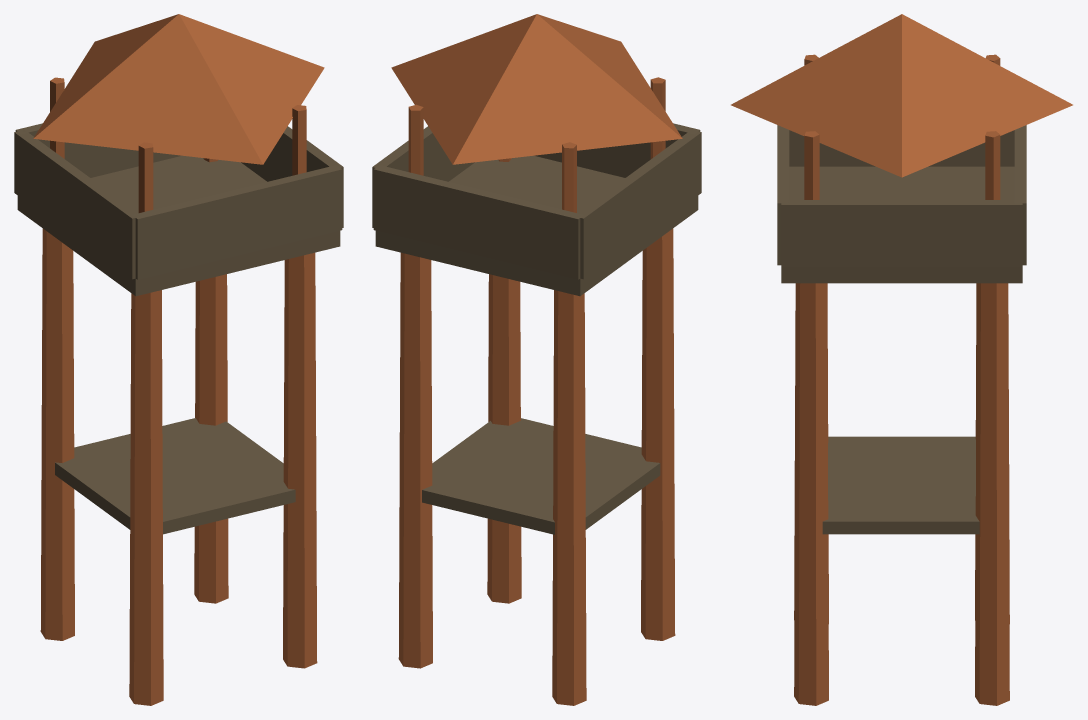
File: gnome_tower.glb
The picture shows the model from 3 angles, left to right: view 1: azimuth 30°, elevation 25°; view 2: azimuth 150°, elevation 25°; view 3: azimuth 270°, elevation 25°; orthographic projection. The views are drawn at different scales.
Parts seen in each view (by area): view 1: gnome_tower; view 2: gnome_tower; view 3: gnome_tower.
Part boxes in pixels (x1,y1,x2,y2): gnome_tower: [14, 14, 343, 705]; gnome_tower: [372, 14, 701, 705]; gnome_tower: [731, 14, 1072, 705].
Size of the model in its own units: 1.71 by 3.55 by 1.71.
